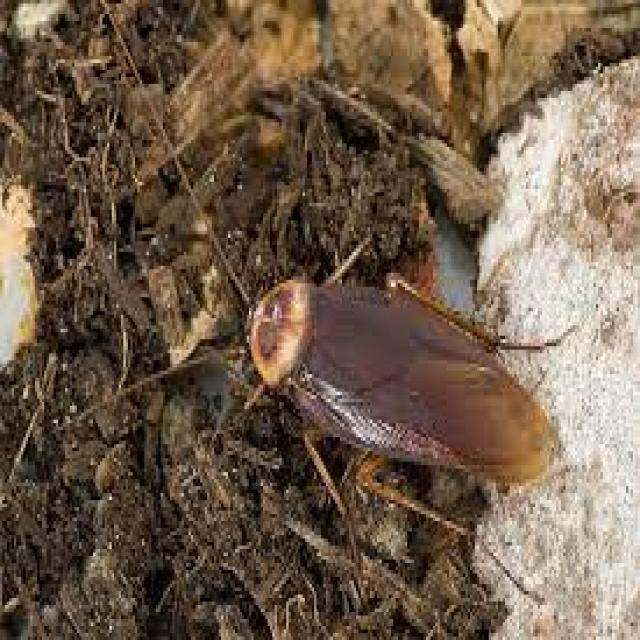Cockroach: (78, 0, 582, 610)
